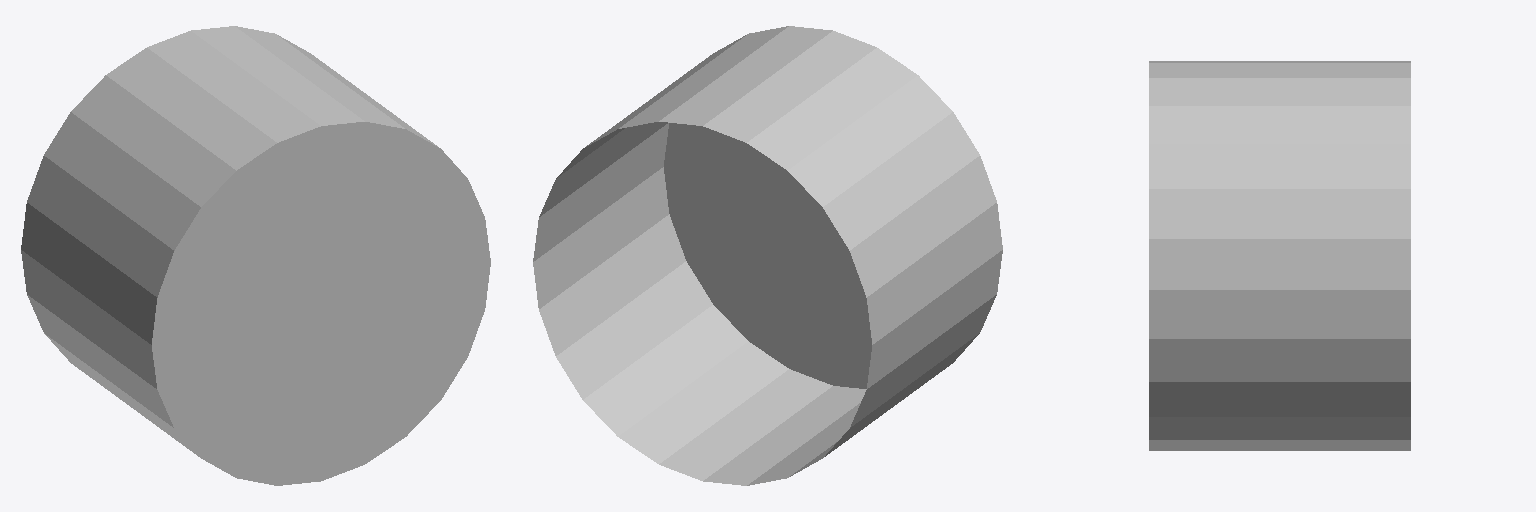
File: original-23.obj
3 renders of one model, left to right at view 1: azimuth 30°, elevation 25°; view 2: azimuth 150°, elevation 25°; view 3: azimuth 270°, elevation 25°, orthographic.
Visible parts, largest first — view 1: #ID362; view 2: #ID362; view 3: #ID362.
Boxes of the visible parts, box(x1,y1,x2,y2) form: #ID362: box(21, 26, 490, 485); #ID362: box(533, 26, 1002, 485); #ID362: box(1149, 61, 1410, 450).
Bounding box in the file's own units: 0.1153 × 0.1153 × 0.0769.